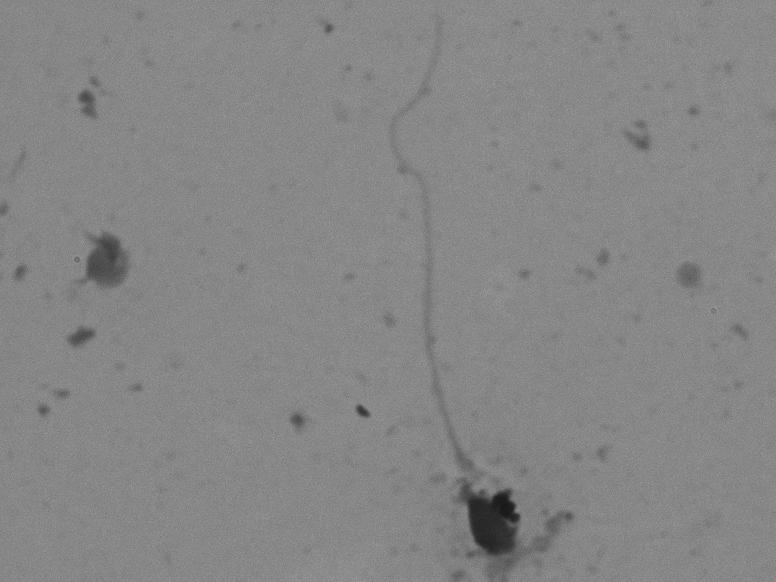Abnormal: (367, 8, 524, 559)
